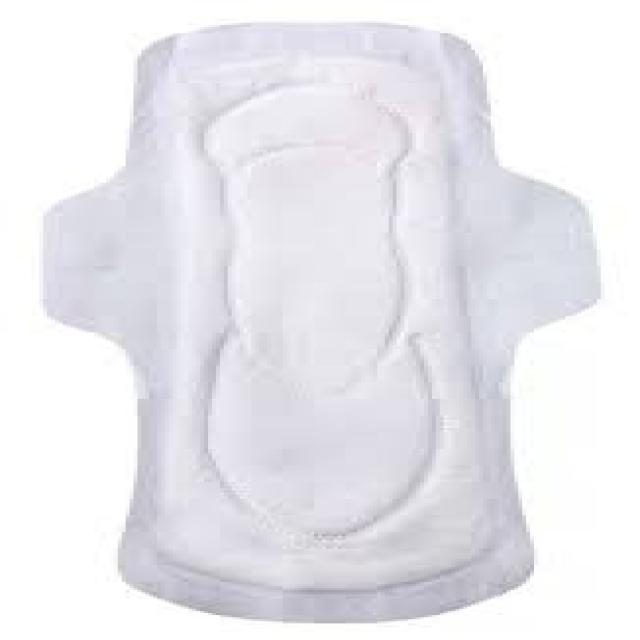napkin: (45, 24, 598, 621)
